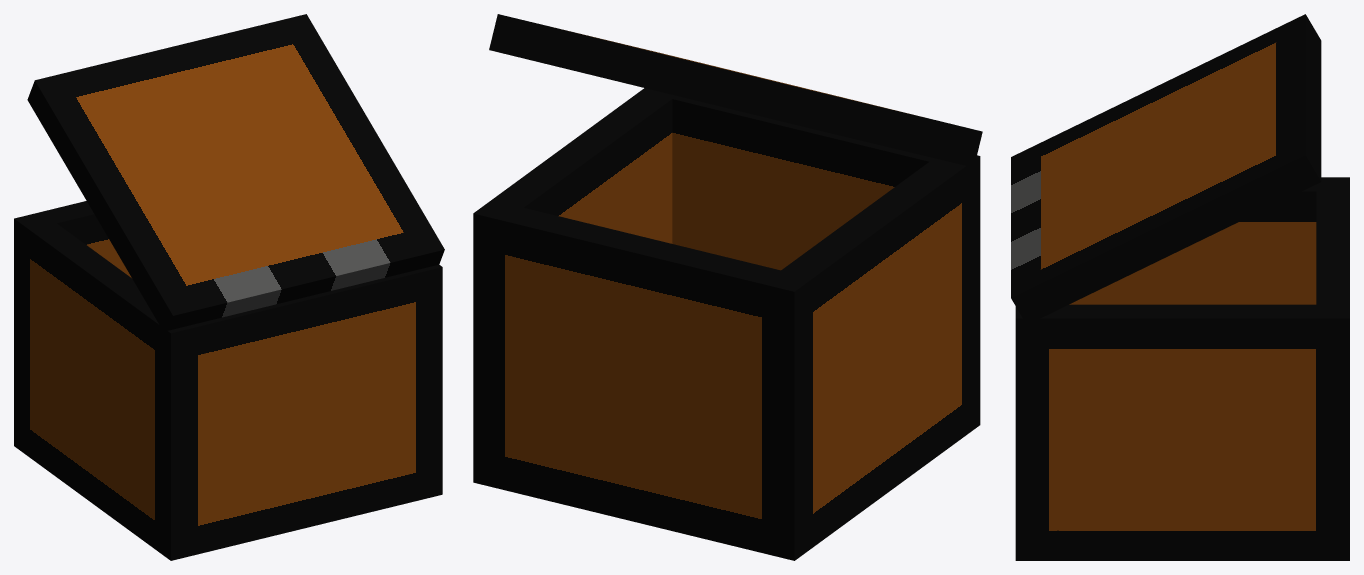
Rendered from NewAnimatedCrate.dae.
3 views of the same model, side by side, from view 1: azimuth 30°, elevation 25°; view 2: azimuth 150°, elevation 25°; view 3: azimuth 270°, elevation 25° (orthographic). The views are drawn at different scales.
Parts seen in each view (by area): view 1: Box-local, Lid-local; view 2: Box-local, Lid-local; view 3: Box-local, Lid-local.
Boxes of the visible parts, left/top/right/bottom form: Box-local: left=14, top=201, right=442, bottom=560; Lid-local: left=27, top=14, right=444, bottom=330; Box-local: left=473, top=88, right=980, bottom=560; Lid-local: left=489, top=14, right=982, bottom=167; Box-local: left=1015, top=177, right=1349, bottom=560; Lid-local: left=1011, top=14, right=1321, bottom=318.
Size of the model in its own units: 10 by 13.4 by 10.14.
2 materials, 2 textured.
